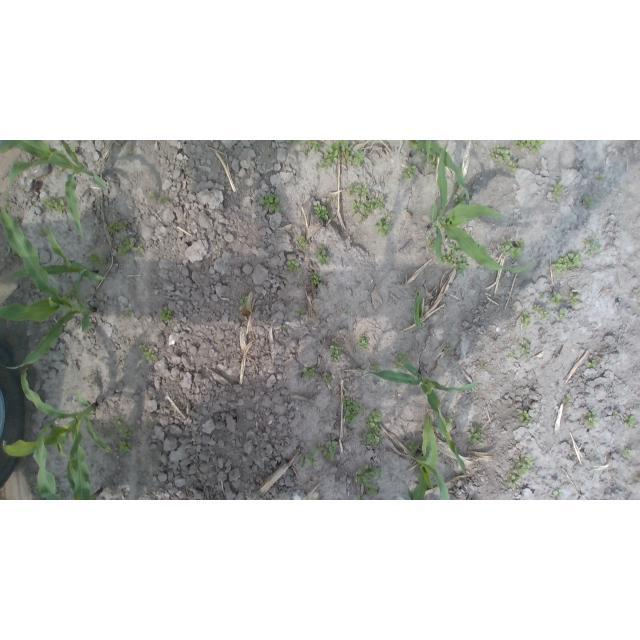Maize: (1, 206, 96, 371), (428, 141, 536, 273), (359, 361, 478, 475), (3, 368, 112, 492), (0, 140, 106, 238), (34, 415, 103, 500), (10, 227, 106, 282), (410, 140, 473, 200), (412, 415, 438, 500), (406, 460, 452, 501), (413, 292, 425, 329)
Weeds: (319, 140, 352, 168), (508, 454, 532, 488), (551, 254, 582, 275), (440, 252, 469, 274), (360, 196, 384, 221), (341, 397, 363, 424), (356, 464, 383, 485), (259, 192, 282, 213), (500, 240, 525, 259), (515, 141, 546, 156), (486, 145, 510, 164), (359, 428, 384, 445), (377, 214, 394, 237), (41, 197, 65, 212), (584, 236, 601, 257), (117, 238, 135, 257), (106, 221, 128, 236), (346, 184, 371, 197), (348, 151, 367, 168), (584, 412, 600, 429), (314, 247, 330, 264), (140, 344, 157, 360), (88, 252, 105, 268), (323, 441, 337, 460), (395, 352, 409, 371), (550, 182, 563, 202), (303, 140, 321, 154), (313, 204, 328, 220), (468, 428, 482, 445), (367, 412, 381, 429), (519, 339, 531, 357), (448, 242, 463, 256), (295, 235, 309, 249), (403, 165, 416, 180), (533, 306, 548, 319), (330, 345, 341, 362), (520, 410, 533, 424), (286, 260, 300, 273), (158, 309, 171, 323), (235, 294, 250, 306), (453, 195, 469, 206), (568, 293, 581, 306), (407, 441, 420, 454), (552, 291, 563, 306), (521, 312, 532, 327), (352, 198, 361, 216), (307, 452, 317, 468), (303, 367, 316, 379), (123, 427, 136, 439), (118, 440, 130, 453), (508, 160, 519, 173), (366, 482, 376, 496), (311, 271, 321, 285), (625, 415, 636, 427), (65, 287, 76, 299), (113, 419, 123, 431), (553, 489, 563, 500), (586, 359, 596, 369), (623, 450, 634, 459), (296, 308, 307, 317), (359, 337, 368, 348), (428, 236, 436, 248), (446, 416, 454, 428), (147, 191, 157, 200), (563, 394, 572, 404), (39, 228, 49, 237), (583, 197, 592, 206), (431, 156, 438, 167), (323, 372, 330, 383), (538, 292, 546, 301), (133, 246, 141, 255), (300, 456, 305, 468), (633, 289, 640, 297), (559, 308, 565, 317), (97, 434, 104, 441), (373, 364, 380, 371), (160, 197, 168, 203), (615, 412, 620, 421), (356, 496, 365, 501), (315, 445, 321, 452), (420, 149, 426, 156), (597, 174, 604, 180), (286, 141, 298, 144), (482, 364, 488, 370), (443, 347, 452, 351), (327, 421, 332, 427), (282, 324, 287, 330), (71, 148, 76, 153), (91, 408, 96, 412)
